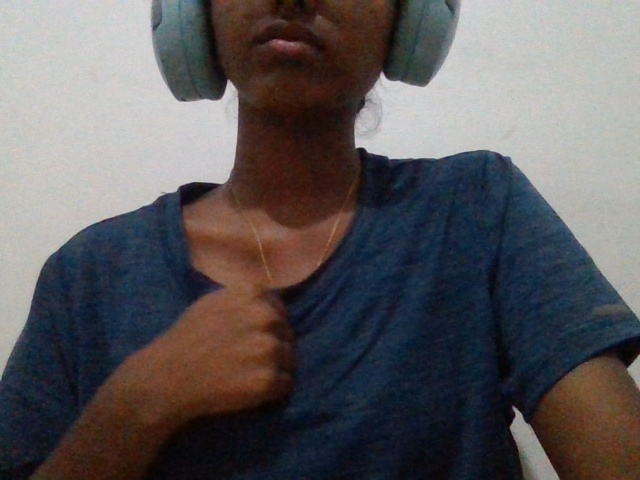Sorry: (88, 262, 308, 465)
